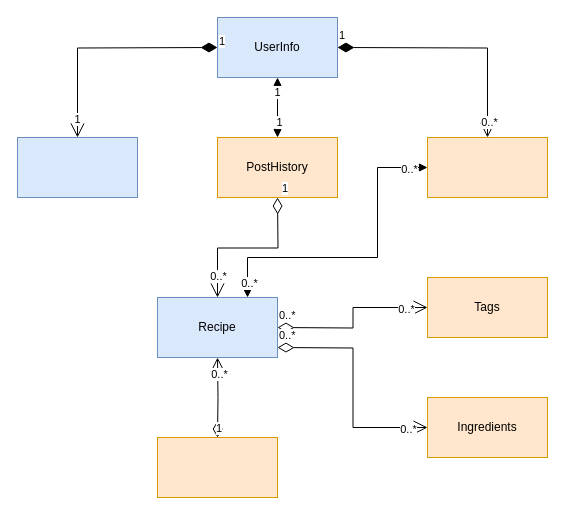
The diagram is 565 pixels wide and 515 high, and some of its shapes have lost their labels. The shapes that lost their labels are listed below. From the top down, each one's box as (x1, y1, x2, y2) in pixels, then its label:
(16, 136, 138, 198): Author
(426, 136, 548, 198): FavoriteList
(156, 436, 278, 498): HomePageFeed
